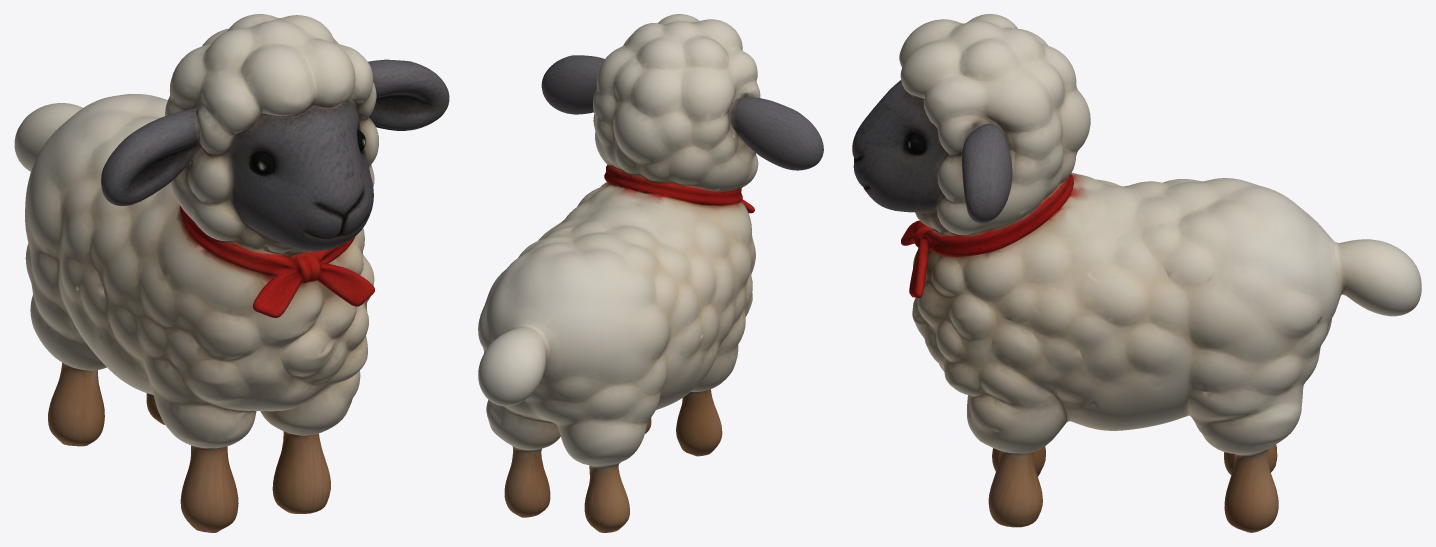
Rendered from sheep.glb.
3 views of the same model, side by side, from view 1: azimuth 30°, elevation 25°; view 2: azimuth 150°, elevation 25°; view 3: azimuth 270°, elevation 25° (orthographic). The views are drawn at different scales.
Parts seen in each view (by area): view 1: node_0; view 2: node_0; view 3: node_0.
Boxes of the visible parts, bbox=[...] form: node_0: bbox=[14, 14, 449, 532]; node_0: bbox=[478, 14, 823, 532]; node_0: bbox=[852, 14, 1421, 532].
Size of the model in its own units: 0.6722 by 0.9571 by 1.03.
1 material, 1 textured.
